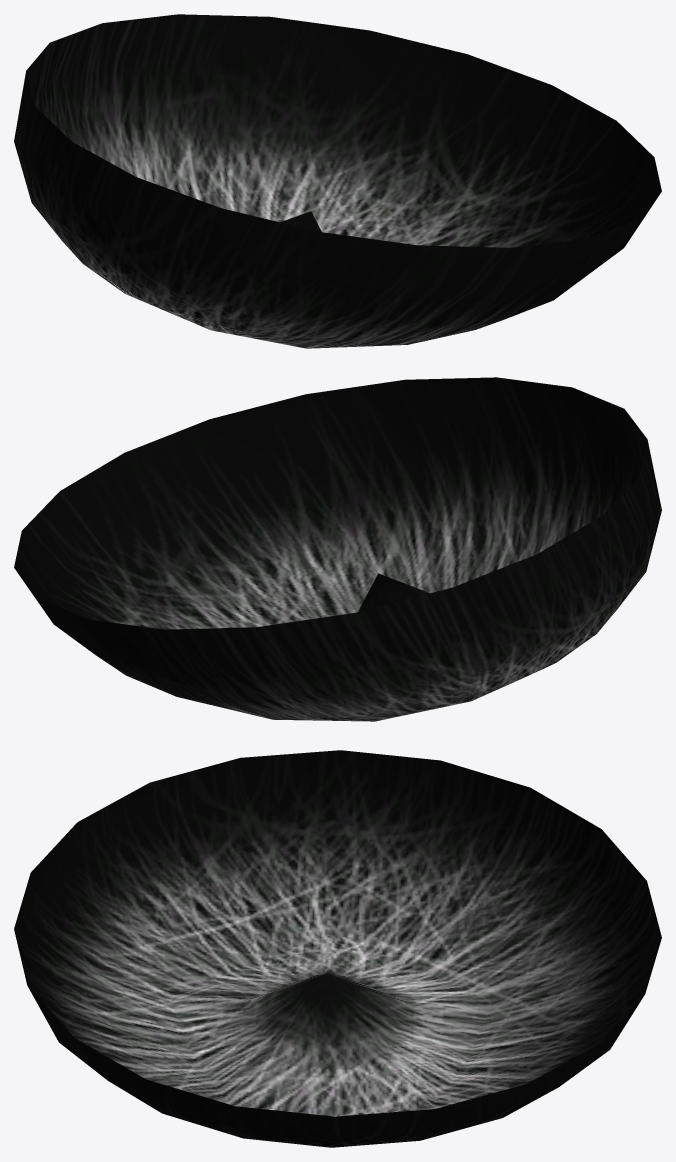
Rendered from MIRKWOOD_SB_997.fbx.
3 views of the same model, one above another, from view 1: azimuth 30°, elevation 25°; view 2: azimuth 150°, elevation 25°; view 3: azimuth 270°, elevation 25° (orthographic). The views are drawn at different scales.
Visible parts, largest first — view 1: MIRKWOOD_SB_997; view 2: MIRKWOOD_SB_997; view 3: MIRKWOOD_SB_997.
Part boxes in pixels (x1=…): MIRKWOOD_SB_997: x1=14, y1=14, x2=661, y2=348; MIRKWOOD_SB_997: x1=14, y1=377, x2=661, y2=721; MIRKWOOD_SB_997: x1=14, y1=750, x2=661, y2=1147.
Size of the model in its own units: 174163 by 66415 by 179783.
1 material, 1 textured.
